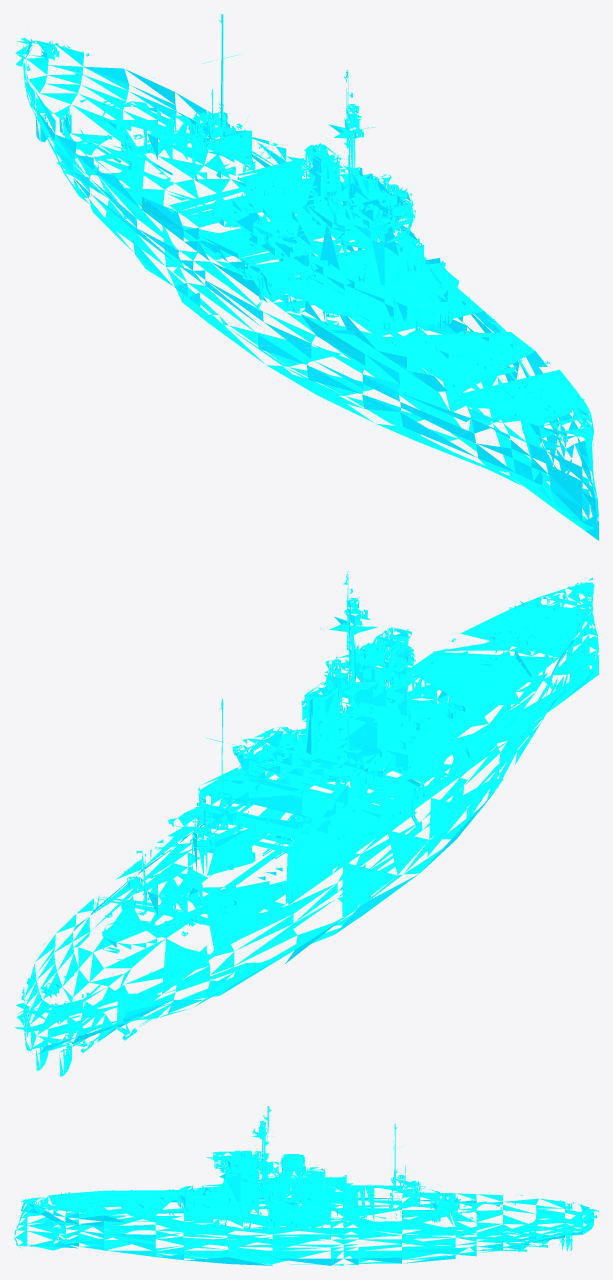
File: Warspite.glb
3 views of the same model, one above another, from view 1: azimuth 30°, elevation 25°; view 2: azimuth 150°, elevation 25°; view 3: azimuth 270°, elevation 25° (orthographic). The views are drawn at different scales.
Size of the model in its own units: 2.26 by 3.63 by 13.2.
